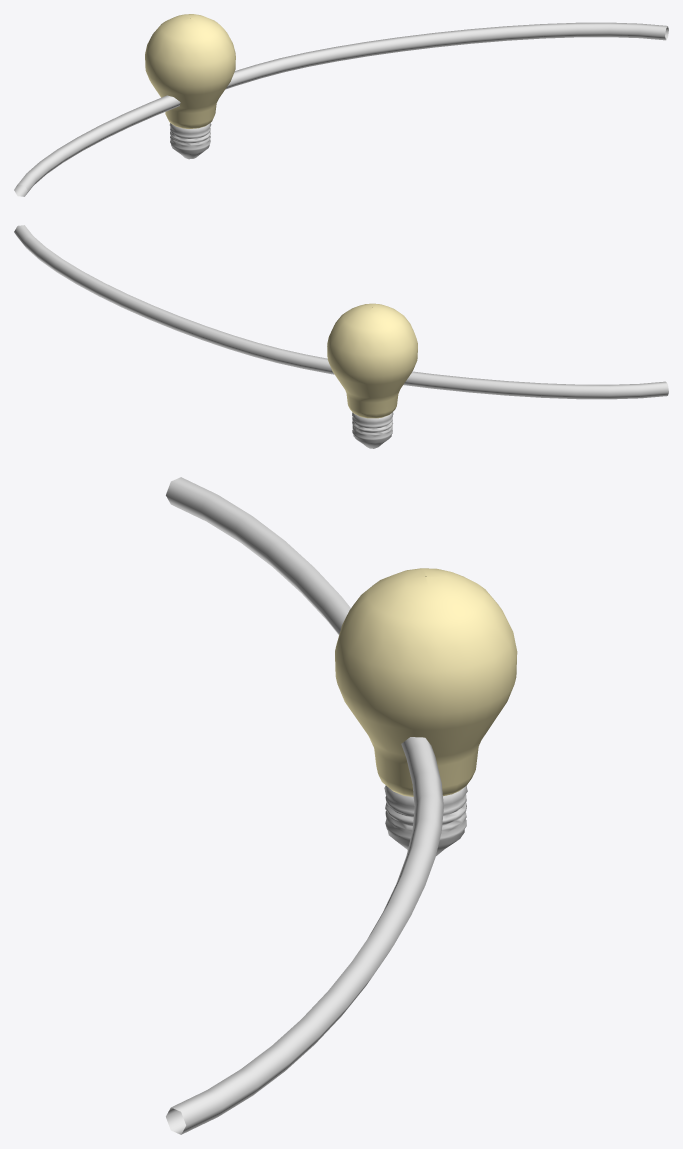
The model's file is bulb.fbx.
The picture shows the model from 3 angles, top to bottom: view 1: azimuth 30°, elevation 25°; view 2: azimuth 150°, elevation 25°; view 3: azimuth 270°, elevation 25°; orthographic projection. The views are drawn at different scales.
Visible parts, largest first — view 1: BezierCurve, Mesh_1; view 2: BezierCurve, Mesh_1; view 3: Mesh_1, BezierCurve.
Boxes of the visible parts, x1,y1,x2,y2 form: BezierCurve: (14, 22, 668, 196); Mesh_1: (145, 14, 235, 159); BezierCurve: (14, 225, 668, 399); Mesh_1: (327, 303, 417, 448); Mesh_1: (335, 568, 517, 855); BezierCurve: (166, 477, 443, 1134).
Bounding box in the file's own units: 14003 × 2833 × 3254.
